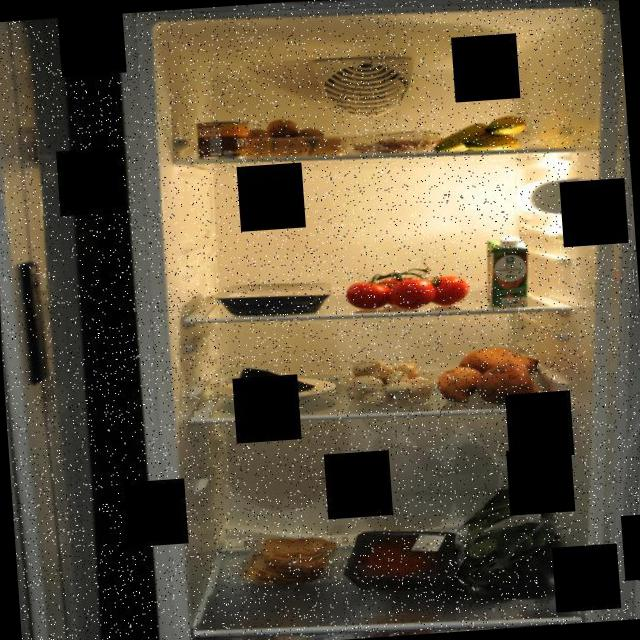Carne vacuno: (338, 520, 462, 600)
Champiñones: (339, 352, 435, 412)
Gambas/Langostinos: (351, 132, 453, 158)
Patata: (238, 108, 356, 162)
Plátano: (428, 109, 528, 157)
Queso: (232, 359, 321, 402)
Tomate: (336, 248, 474, 316)
bread: (232, 531, 339, 592)
corn: (192, 116, 252, 164)
heavy_cream: (482, 232, 532, 310)
spinach: (438, 478, 568, 603)
sweet_potato: (434, 339, 546, 410)
